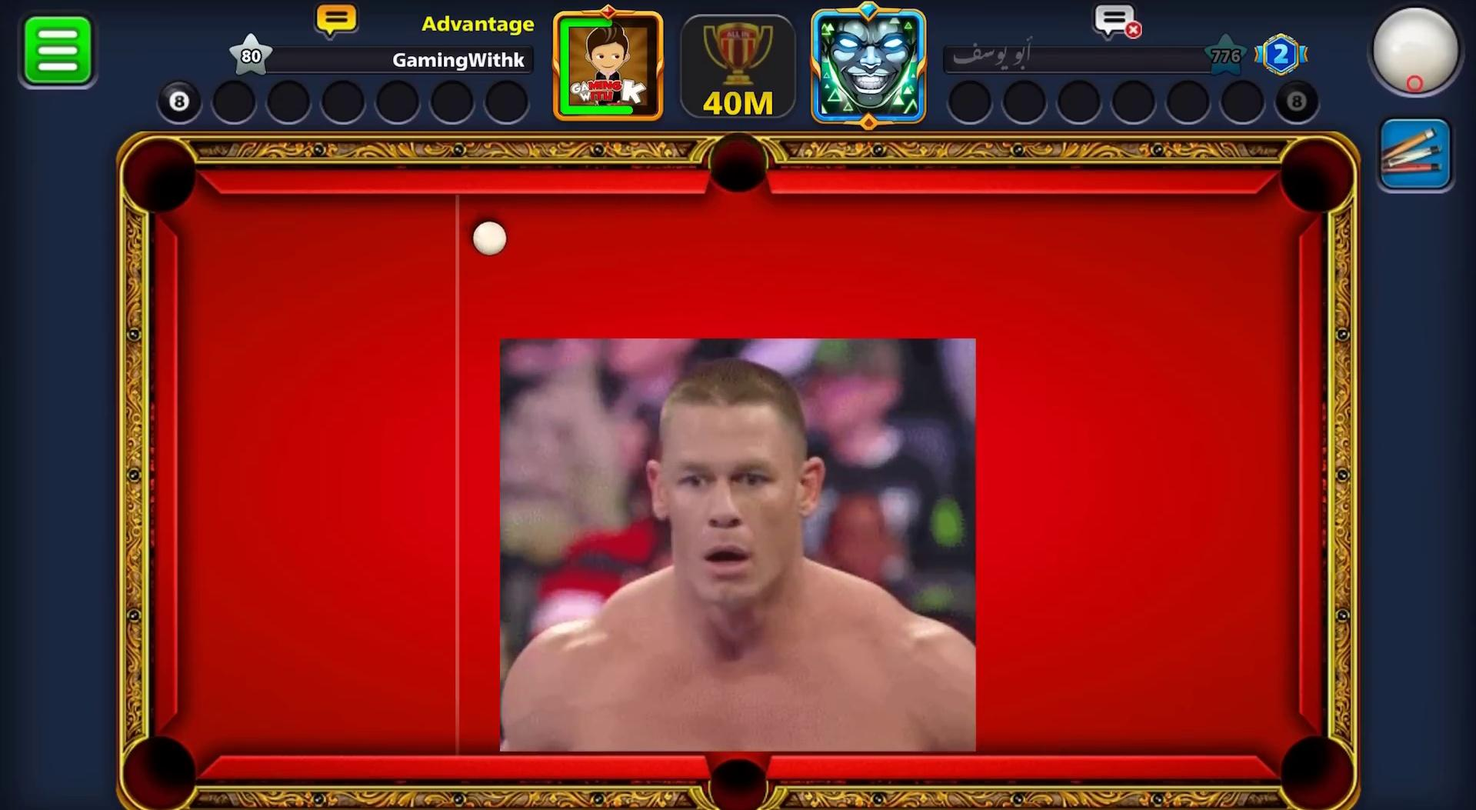Hole: (694, 128, 779, 211), (121, 135, 199, 212), (1278, 138, 1355, 216), (1278, 734, 1355, 809), (122, 733, 198, 808), (706, 755, 769, 809)
Spin: (1362, 0, 1475, 111)
White: (465, 216, 512, 263)
